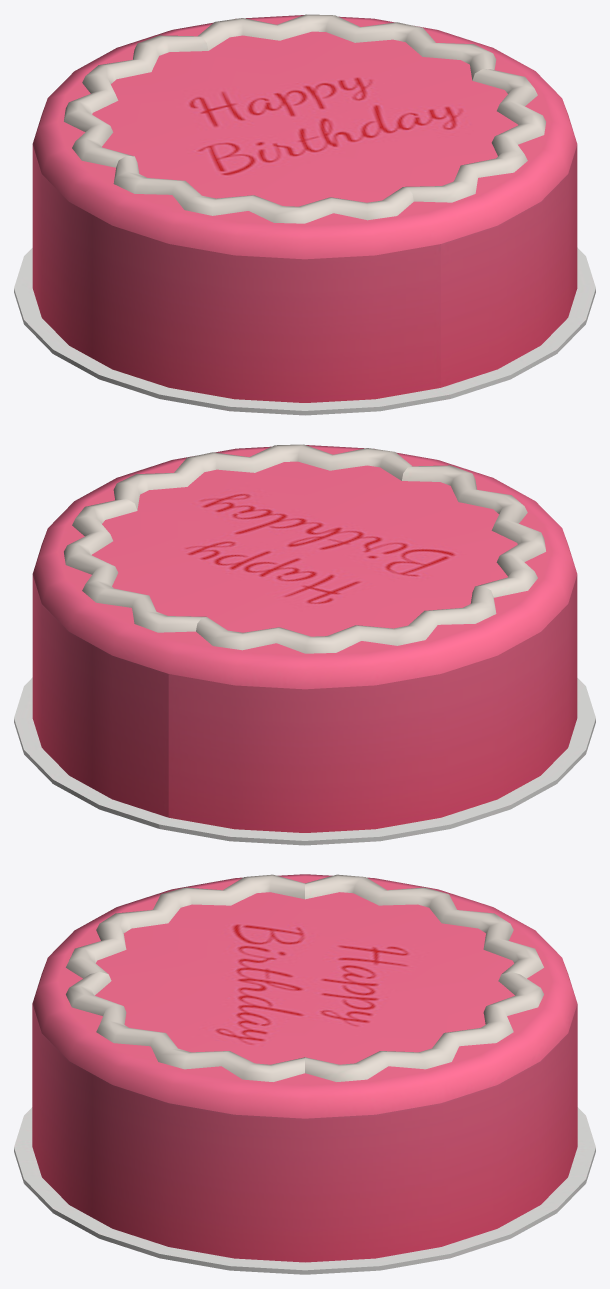
The model's file is Cake_1.fbx.
The picture shows the model from 3 angles, top to bottom: view 1: azimuth 30°, elevation 25°; view 2: azimuth 150°, elevation 25°; view 3: azimuth 270°, elevation 25°; orthographic projection.
Parts seen in each view (by area): view 1: Cake_1; view 2: Cake_1; view 3: Cake_1.
Part boxes in pixels (x1=…): Cake_1: x1=14, y1=14, x2=595, y2=415; Cake_1: x1=14, y1=444, x2=595, y2=845; Cake_1: x1=14, y1=874, x2=595, y2=1274.
Size of the model in its own units: 109 by 37.32 by 109.
Materials: 1 (1 with a texture image).
